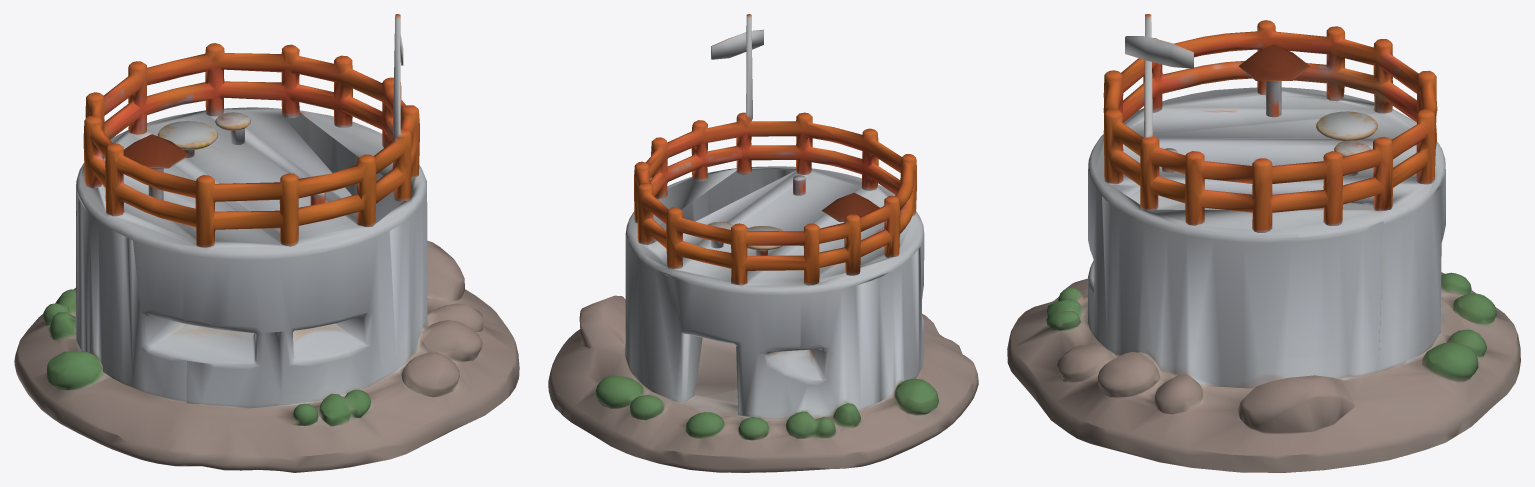
3 renders of one model, left to right at view 1: azimuth 30°, elevation 25°; view 2: azimuth 150°, elevation 25°; view 3: azimuth 270°, elevation 25°, orthographic. The views are drawn at different scales.
Parts seen in each view (by area): view 1: material; view 2: material; view 3: material.
Boxes of the visible parts, x1=… form: material: x1=14, y1=14, x2=519, y2=472; material: x1=548, y1=14, x2=978, y2=472; material: x1=1007, y1=14, x2=1520, y2=472.
Bounding box in the file's own units: 1.9 × 1.58 × 1.9.
1 material, 1 textured.
